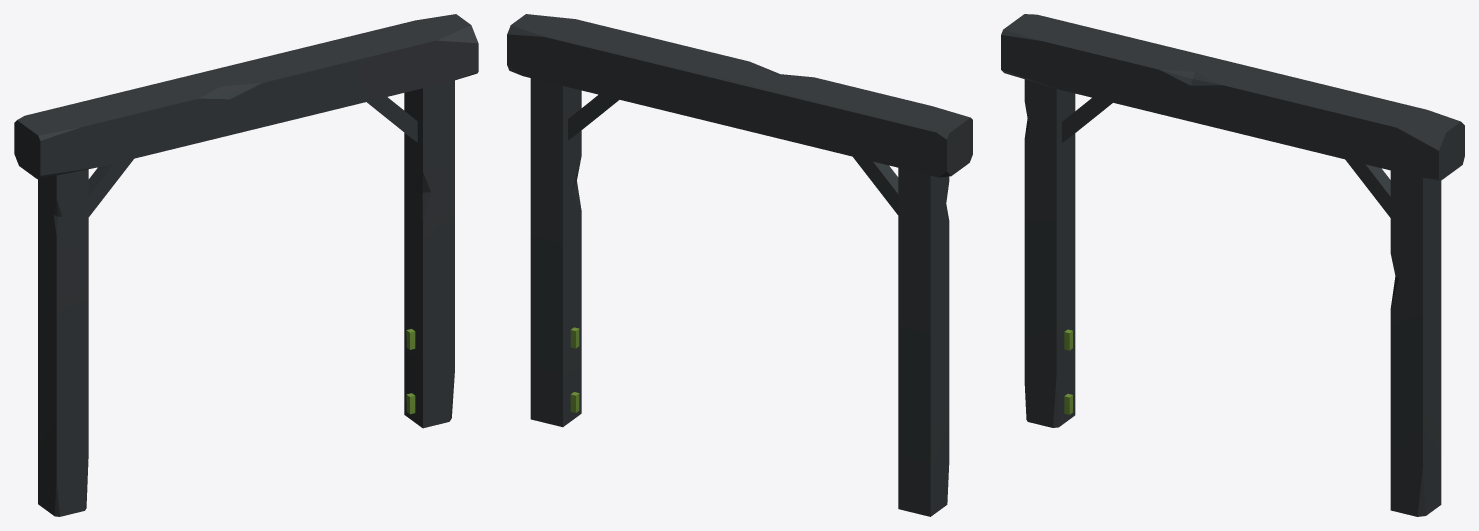
Rendered from Arch_05.fbx.
3 renders of one model, left to right at view 1: azimuth 30°, elevation 25°; view 2: azimuth 150°, elevation 25°; view 3: azimuth 330°, elevation 25°, orthographic.
Parts seen in each view (by area): view 1: Arch_05; view 2: Arch_05; view 3: Arch_05.
Part boxes in pixels (x1,y1,x2,y2): Arch_05: (14, 14, 478, 516); Arch_05: (507, 14, 972, 516); Arch_05: (1001, 14, 1464, 516).
Bounding box in the file's own units: 4.67 × 3.95 × 0.4787.
